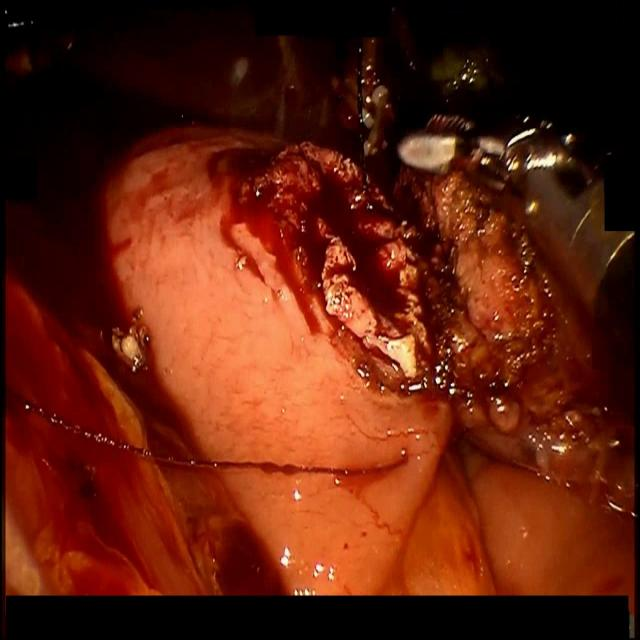surgical-tool: (397, 3, 633, 319)
